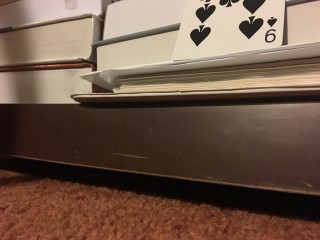NineOfSpades: (172, 1, 286, 62)
